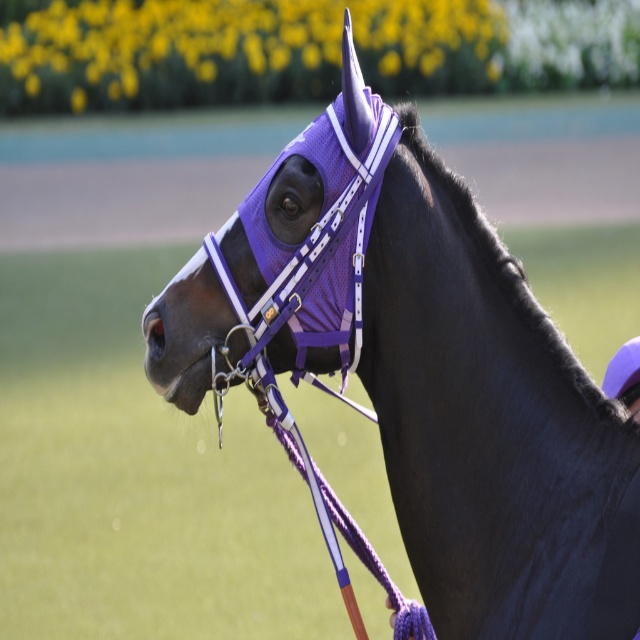Horse: (137, 7, 640, 640)
